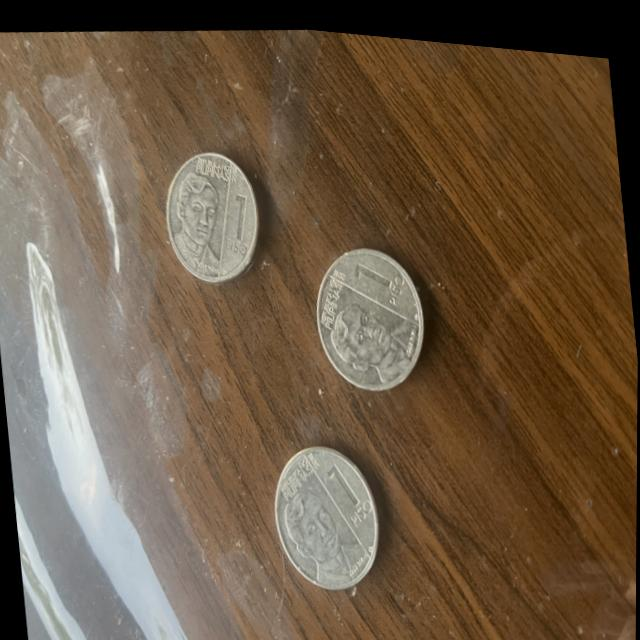1_New_Front: (271, 445, 376, 586), (312, 251, 418, 382), (158, 140, 260, 275)
